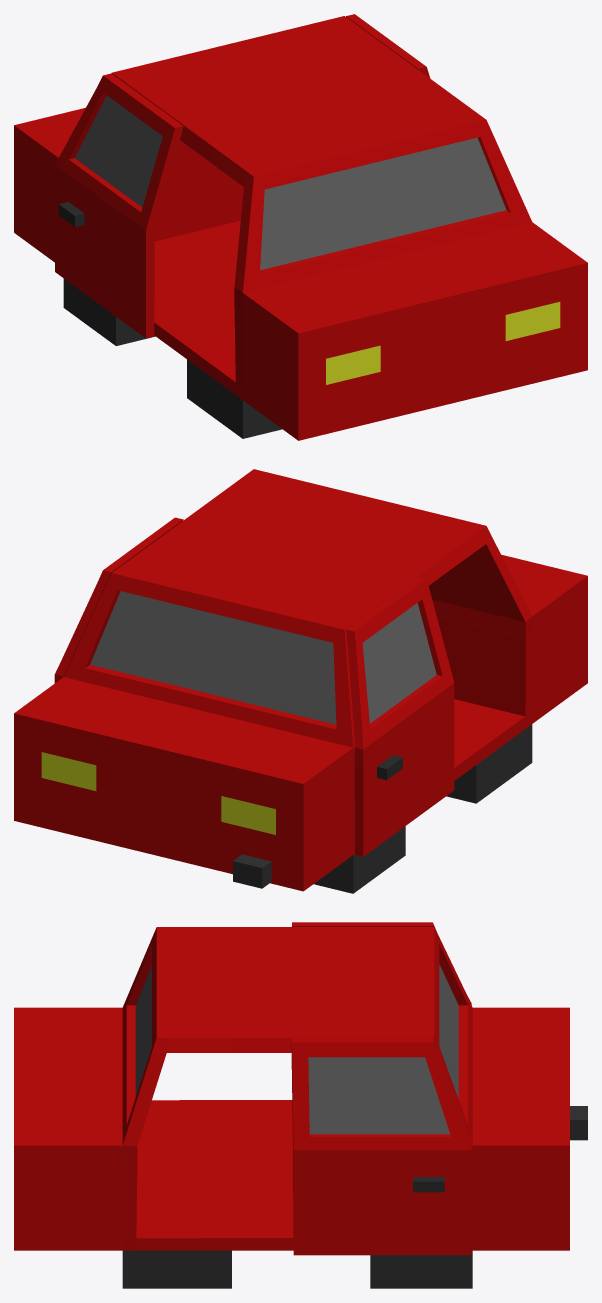
Rendered from CAR_RED_MODEL.fbx.
3 views of the same model, one above another, from view 1: azimuth 30°, elevation 25°; view 2: azimuth 150°, elevation 25°; view 3: azimuth 270°, elevation 25° (orthographic). The views are drawn at different scales.
Parts seen in each view (by area): view 1: CAR_RED1; view 2: CAR_RED1; view 3: CAR_RED1.
Part boxes in pixels (box(x1,y1,x2,y2)): CAR_RED1: box(14, 14, 587, 440); CAR_RED1: box(14, 469, 587, 893); CAR_RED1: box(14, 922, 587, 1288).
Bounding box in the file's own units: 19.64 × 13.88 × 30.46.
